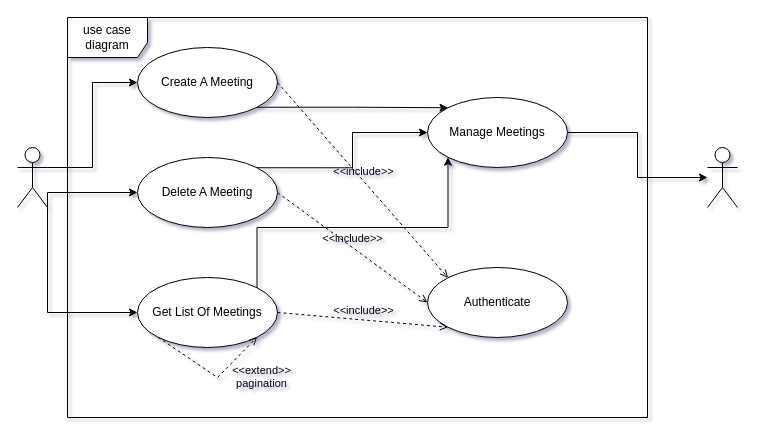
Some shapes in this 772 by 441 pixel diagram are drawn without their labels. Each missing label, with the box of its shape:
User: (16, 146, 48, 208)
Zoom API: (706, 146, 738, 208)
